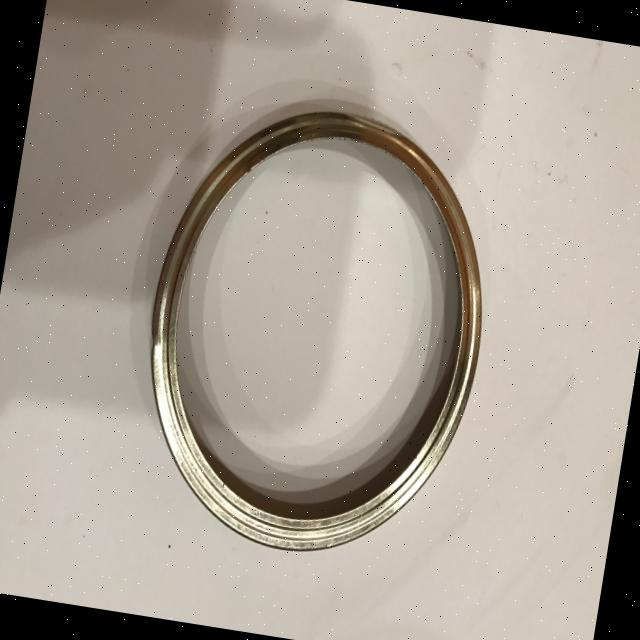metal: (119, 85, 514, 576)
